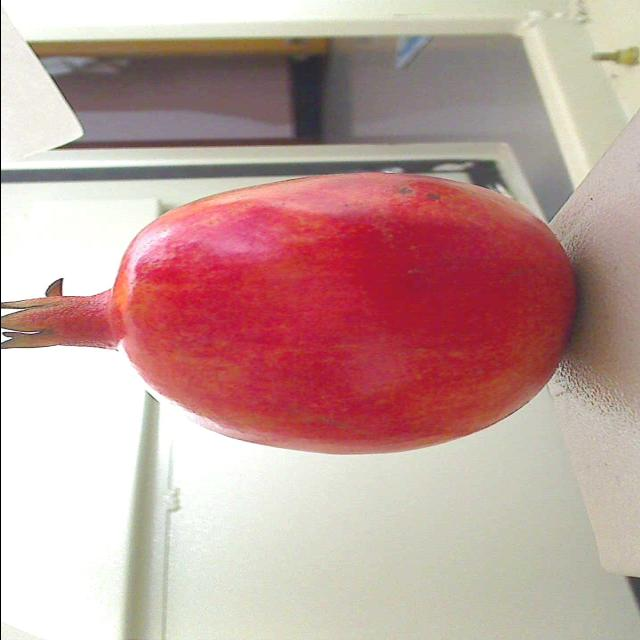pomegranate: (0, 157, 576, 475)
